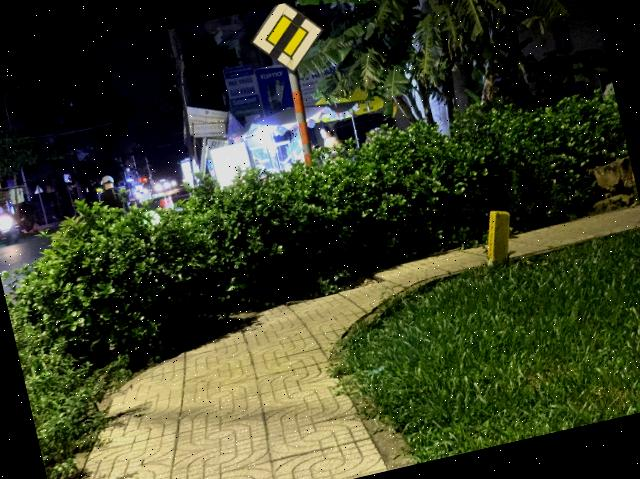het-duong-uu-tien: (240, 0, 331, 80)
